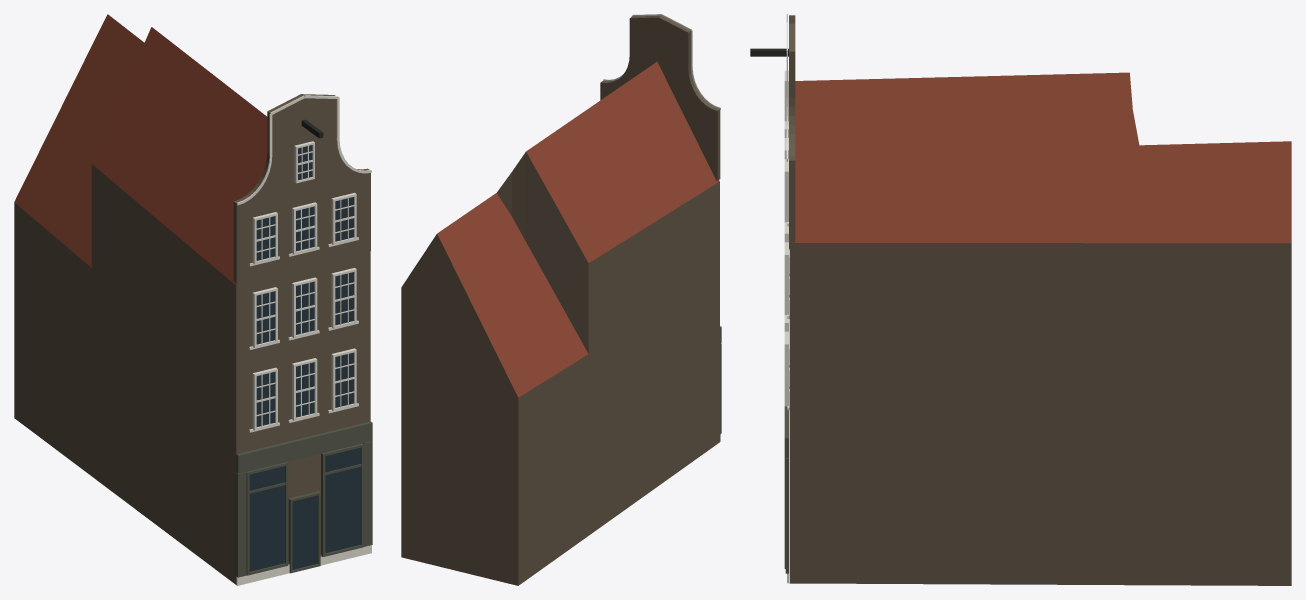
The picture shows the model from 3 angles, left to right: view 1: azimuth 30°, elevation 25°; view 2: azimuth 150°, elevation 25°; view 3: azimuth 270°, elevation 25°; orthographic projection. The views are drawn at different scales.
Visible parts, largest first — view 1: spec-0363100012171144; view 2: spec-0363100012171144; view 3: spec-0363100012171144.
Boxes of the visible parts, box(x1,y1,x2,y2) form: spec-0363100012171144: box(14, 14, 372, 585); spec-0363100012171144: box(401, 14, 721, 585); spec-0363100012171144: box(750, 14, 1291, 585).
Bounding box in the file's own units: 4.96 × 16.14 × 15.09.
